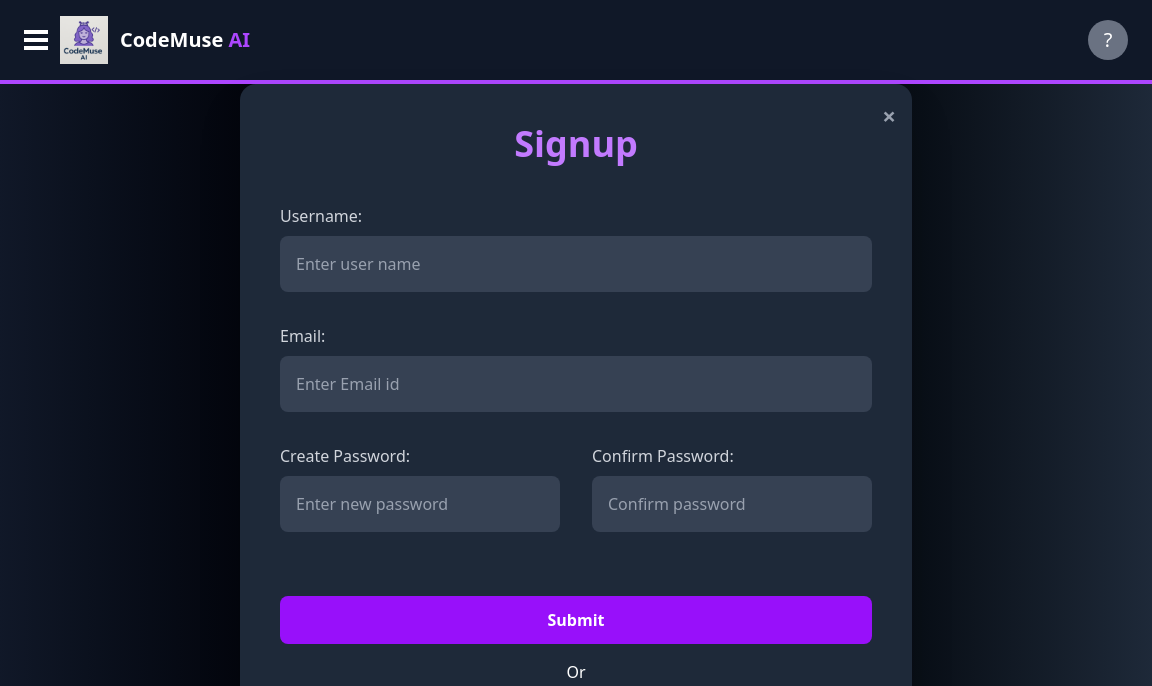
Scenario: Signup Page › shows password mismatch error
The width and height of the screenshot is (1152, 686).
In the password field with placeholder "Enter new password": (420, 504) [280,476,560,532], type "password1"
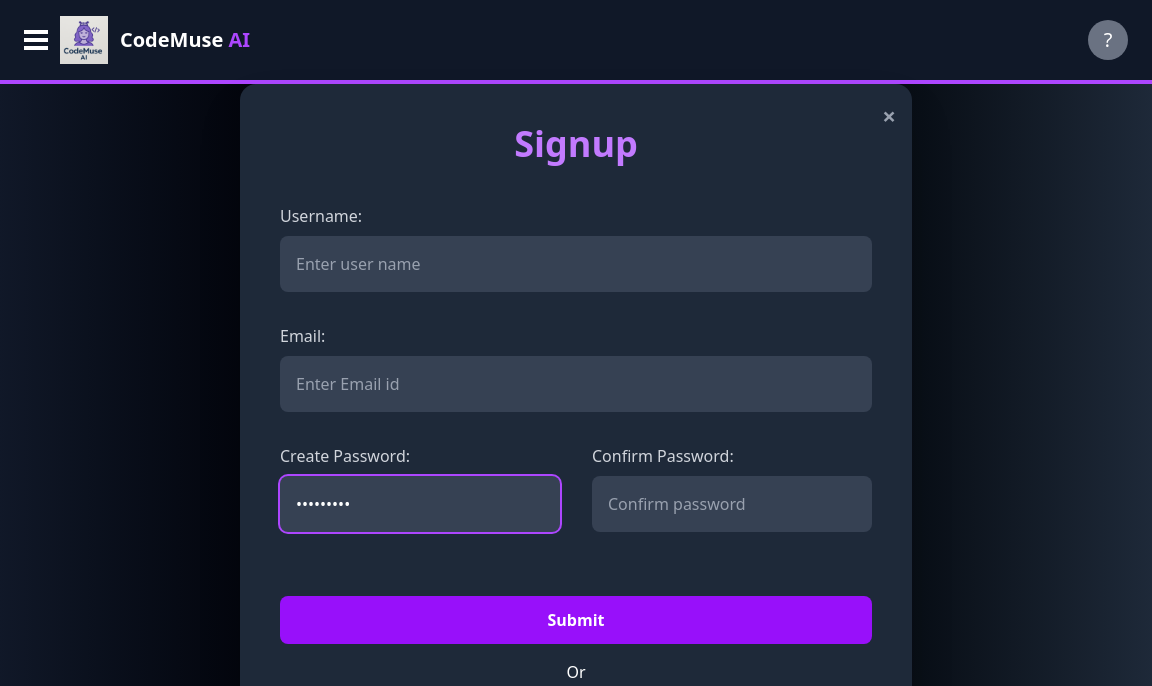
In the password field with placeholder "Confirm password": (732, 504) [592,476,872,532], type "password2"
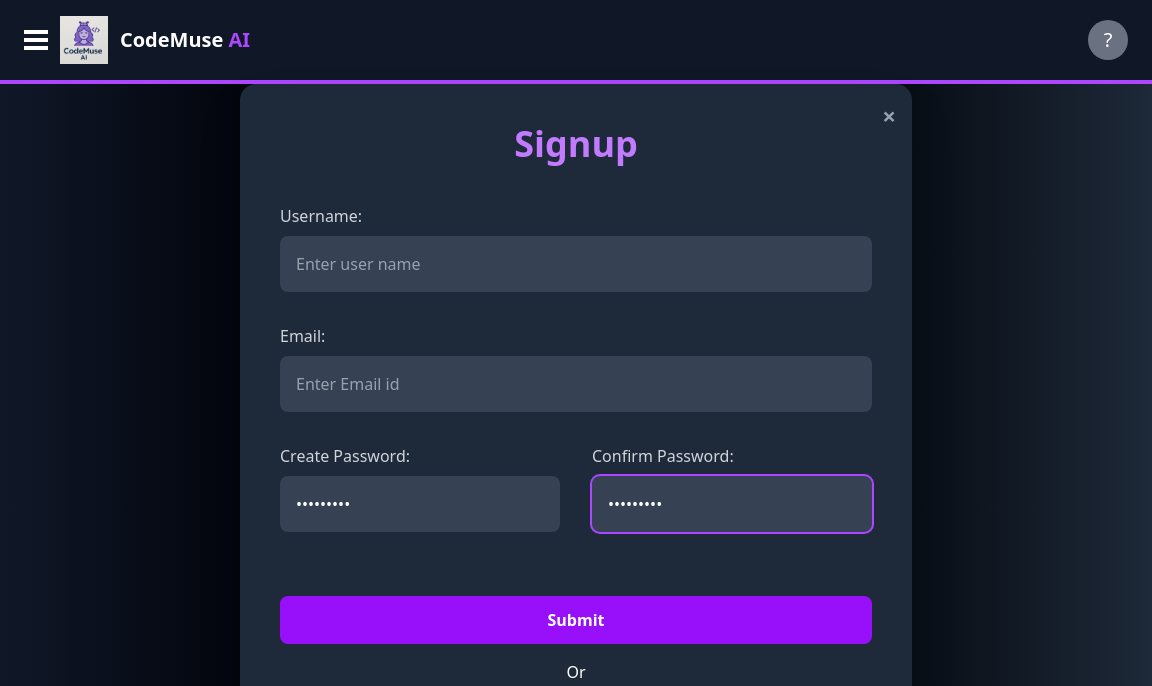
Click the button "Submit": (576, 620) [280,596,872,644]
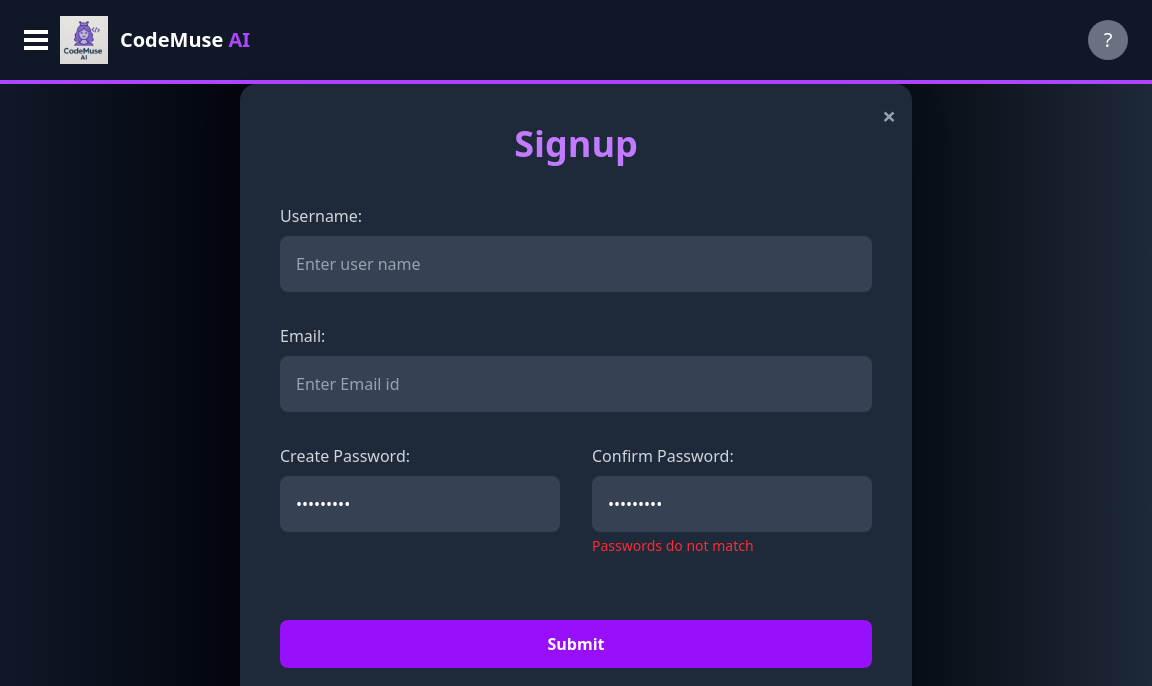
Result: the text "Passwords do not match" is shown at [592,536,754,555]
